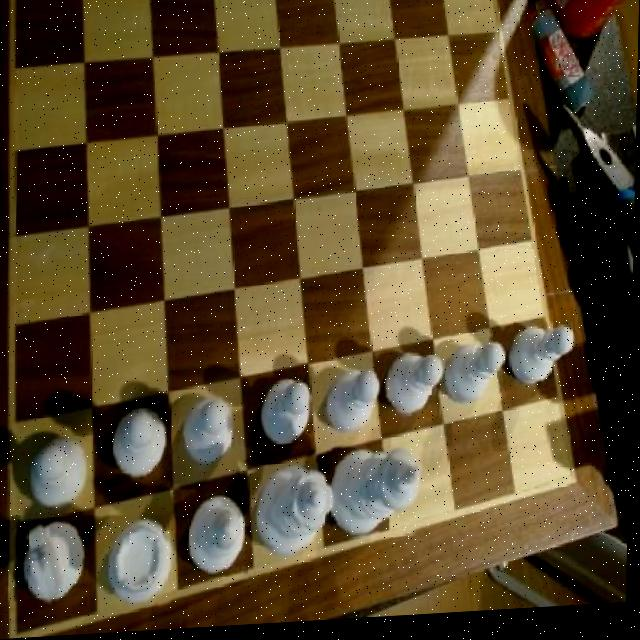black-rook: (186, 498, 252, 585)
white-bishop: (332, 449, 423, 547)
white-king: (10, 516, 93, 607)
white-knight: (110, 409, 172, 488), (30, 437, 90, 511), (513, 328, 577, 396), (258, 380, 315, 455), (386, 357, 447, 426), (449, 344, 507, 413), (329, 373, 378, 441), (182, 407, 234, 471)
white-pawn: (258, 467, 338, 562)
white-queen: (105, 516, 180, 612)
